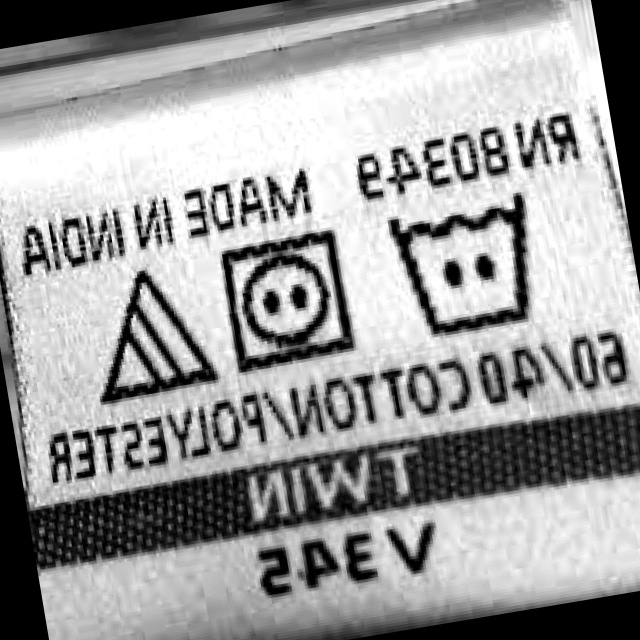40C: (377, 182, 557, 350)
non_chlorine_bleach: (76, 258, 227, 412)
tumble_dry_medium: (209, 222, 365, 376)
